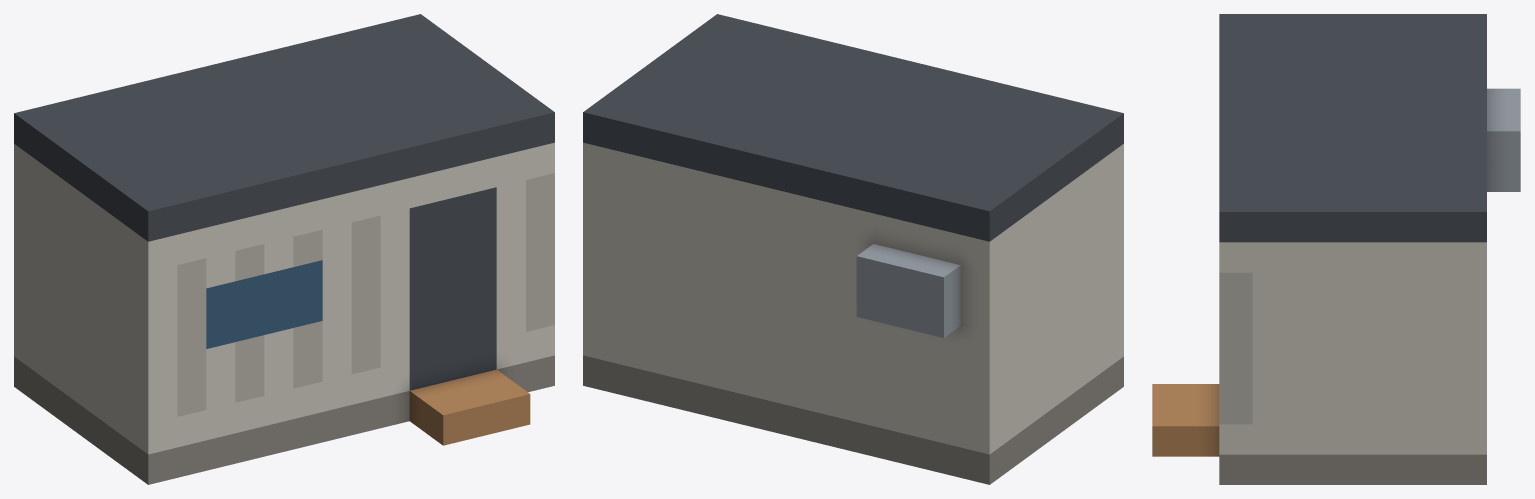
The model's file is cm_hut.glb.
The picture shows the model from 3 angles, left to right: view 1: azimuth 30°, elevation 25°; view 2: azimuth 150°, elevation 25°; view 3: azimuth 270°, elevation 25°; orthographic projection.
Parts seen in each view (by area): view 1: cm_hut_body; view 2: cm_hut_body; view 3: cm_hut_body.
Boxes of the visible parts, x1,y1,x2,y2 form: cm_hut_body: (14,14,554,484); cm_hut_body: (583,14,1123,484); cm_hut_body: (1152,14,1520,484).
Size of the model in its own units: 0.875 by 0.5625 by 0.6875.
Materials: 1 (1 with a texture image).
